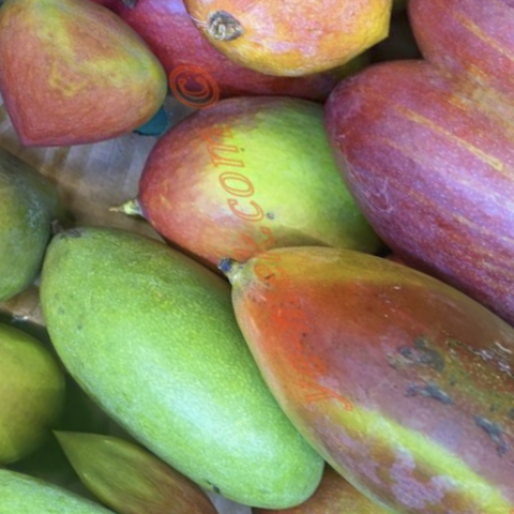mango: (0, 164, 402, 514), (145, 158, 514, 514), (62, 11, 437, 360), (221, 0, 514, 343)
